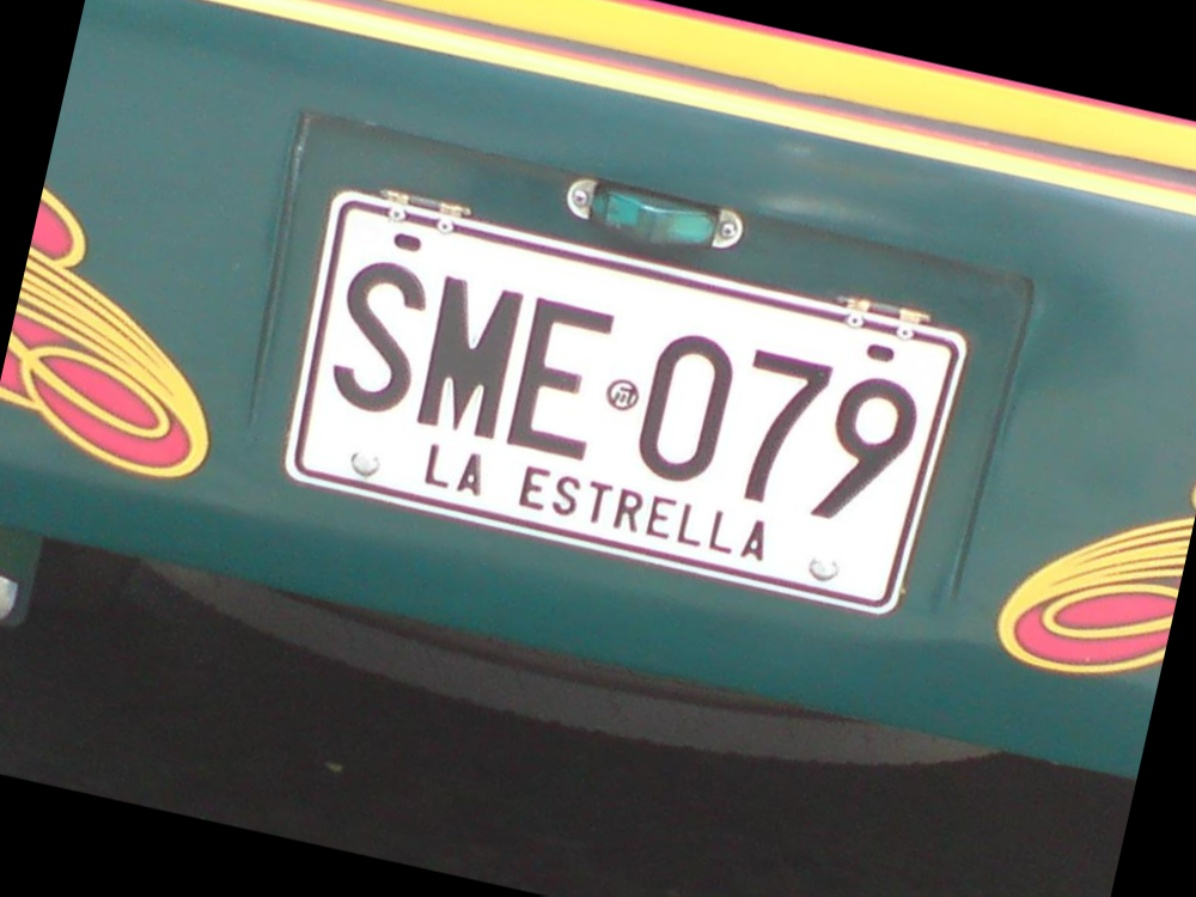placas: (265, 177, 978, 626)
